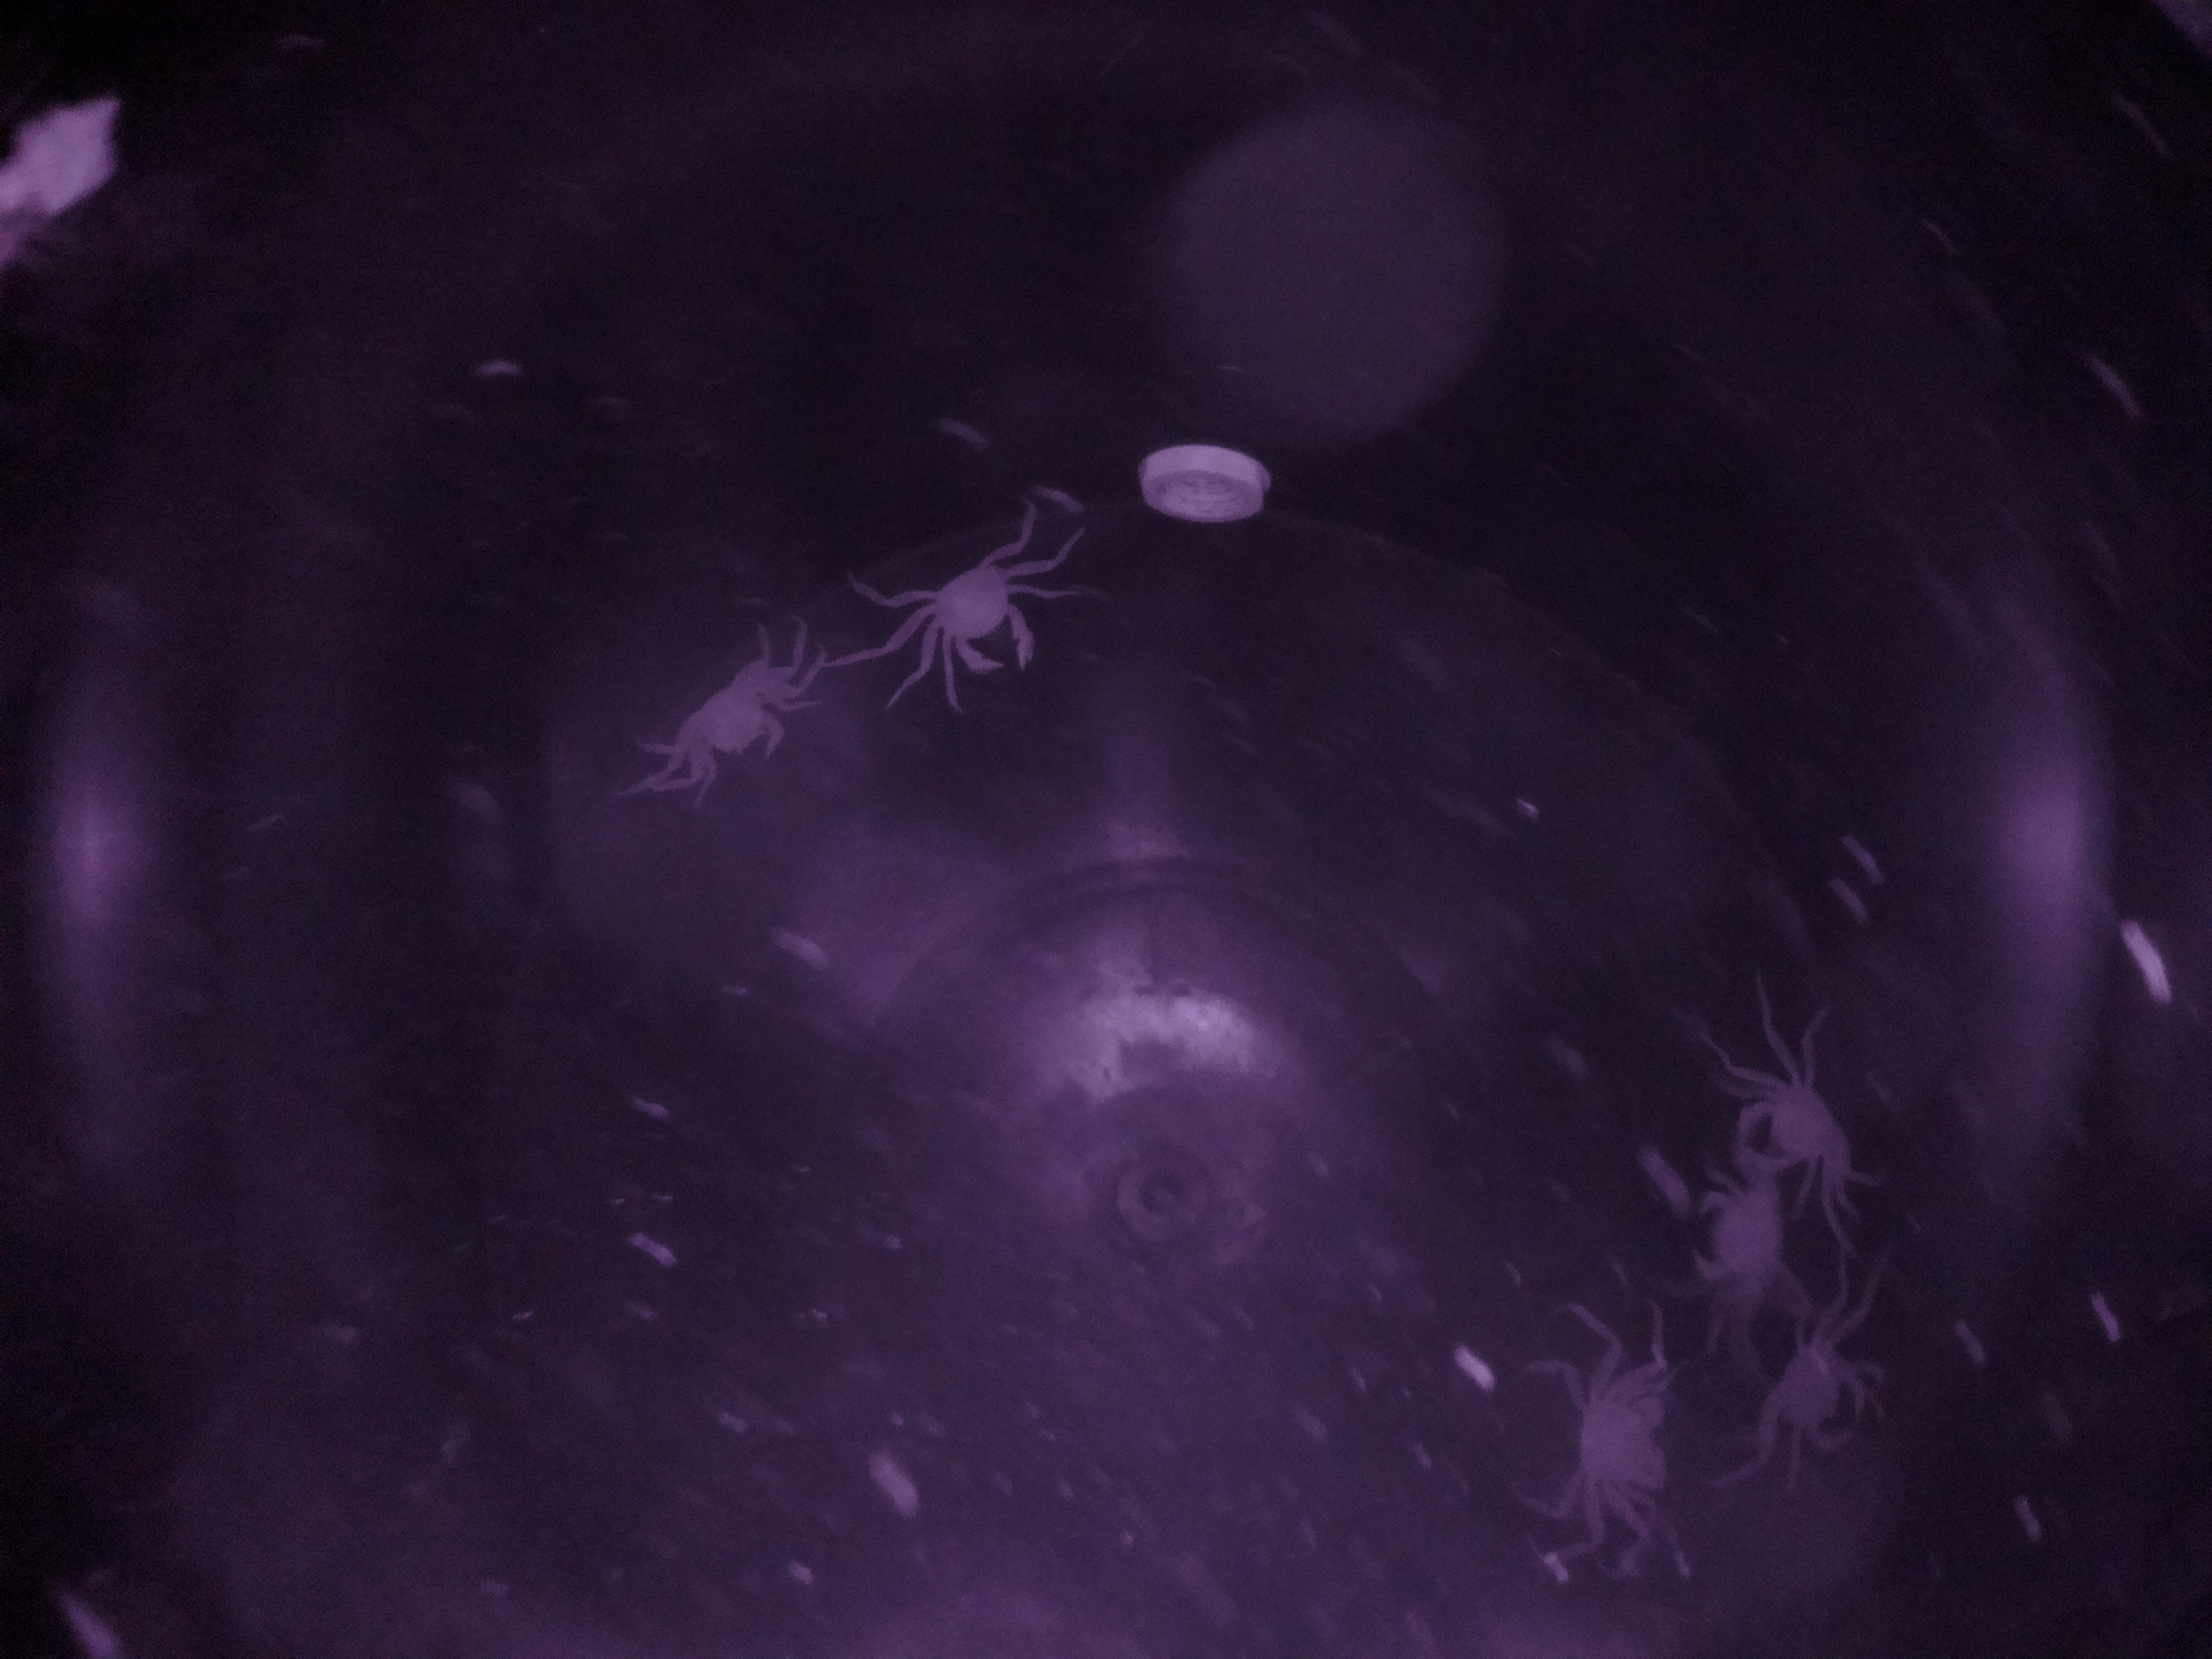Crab: (622, 608, 831, 831), (1533, 1276, 1686, 1575), (902, 516, 1059, 699), (1737, 1310, 1885, 1471), (1705, 1065, 1872, 1197)
